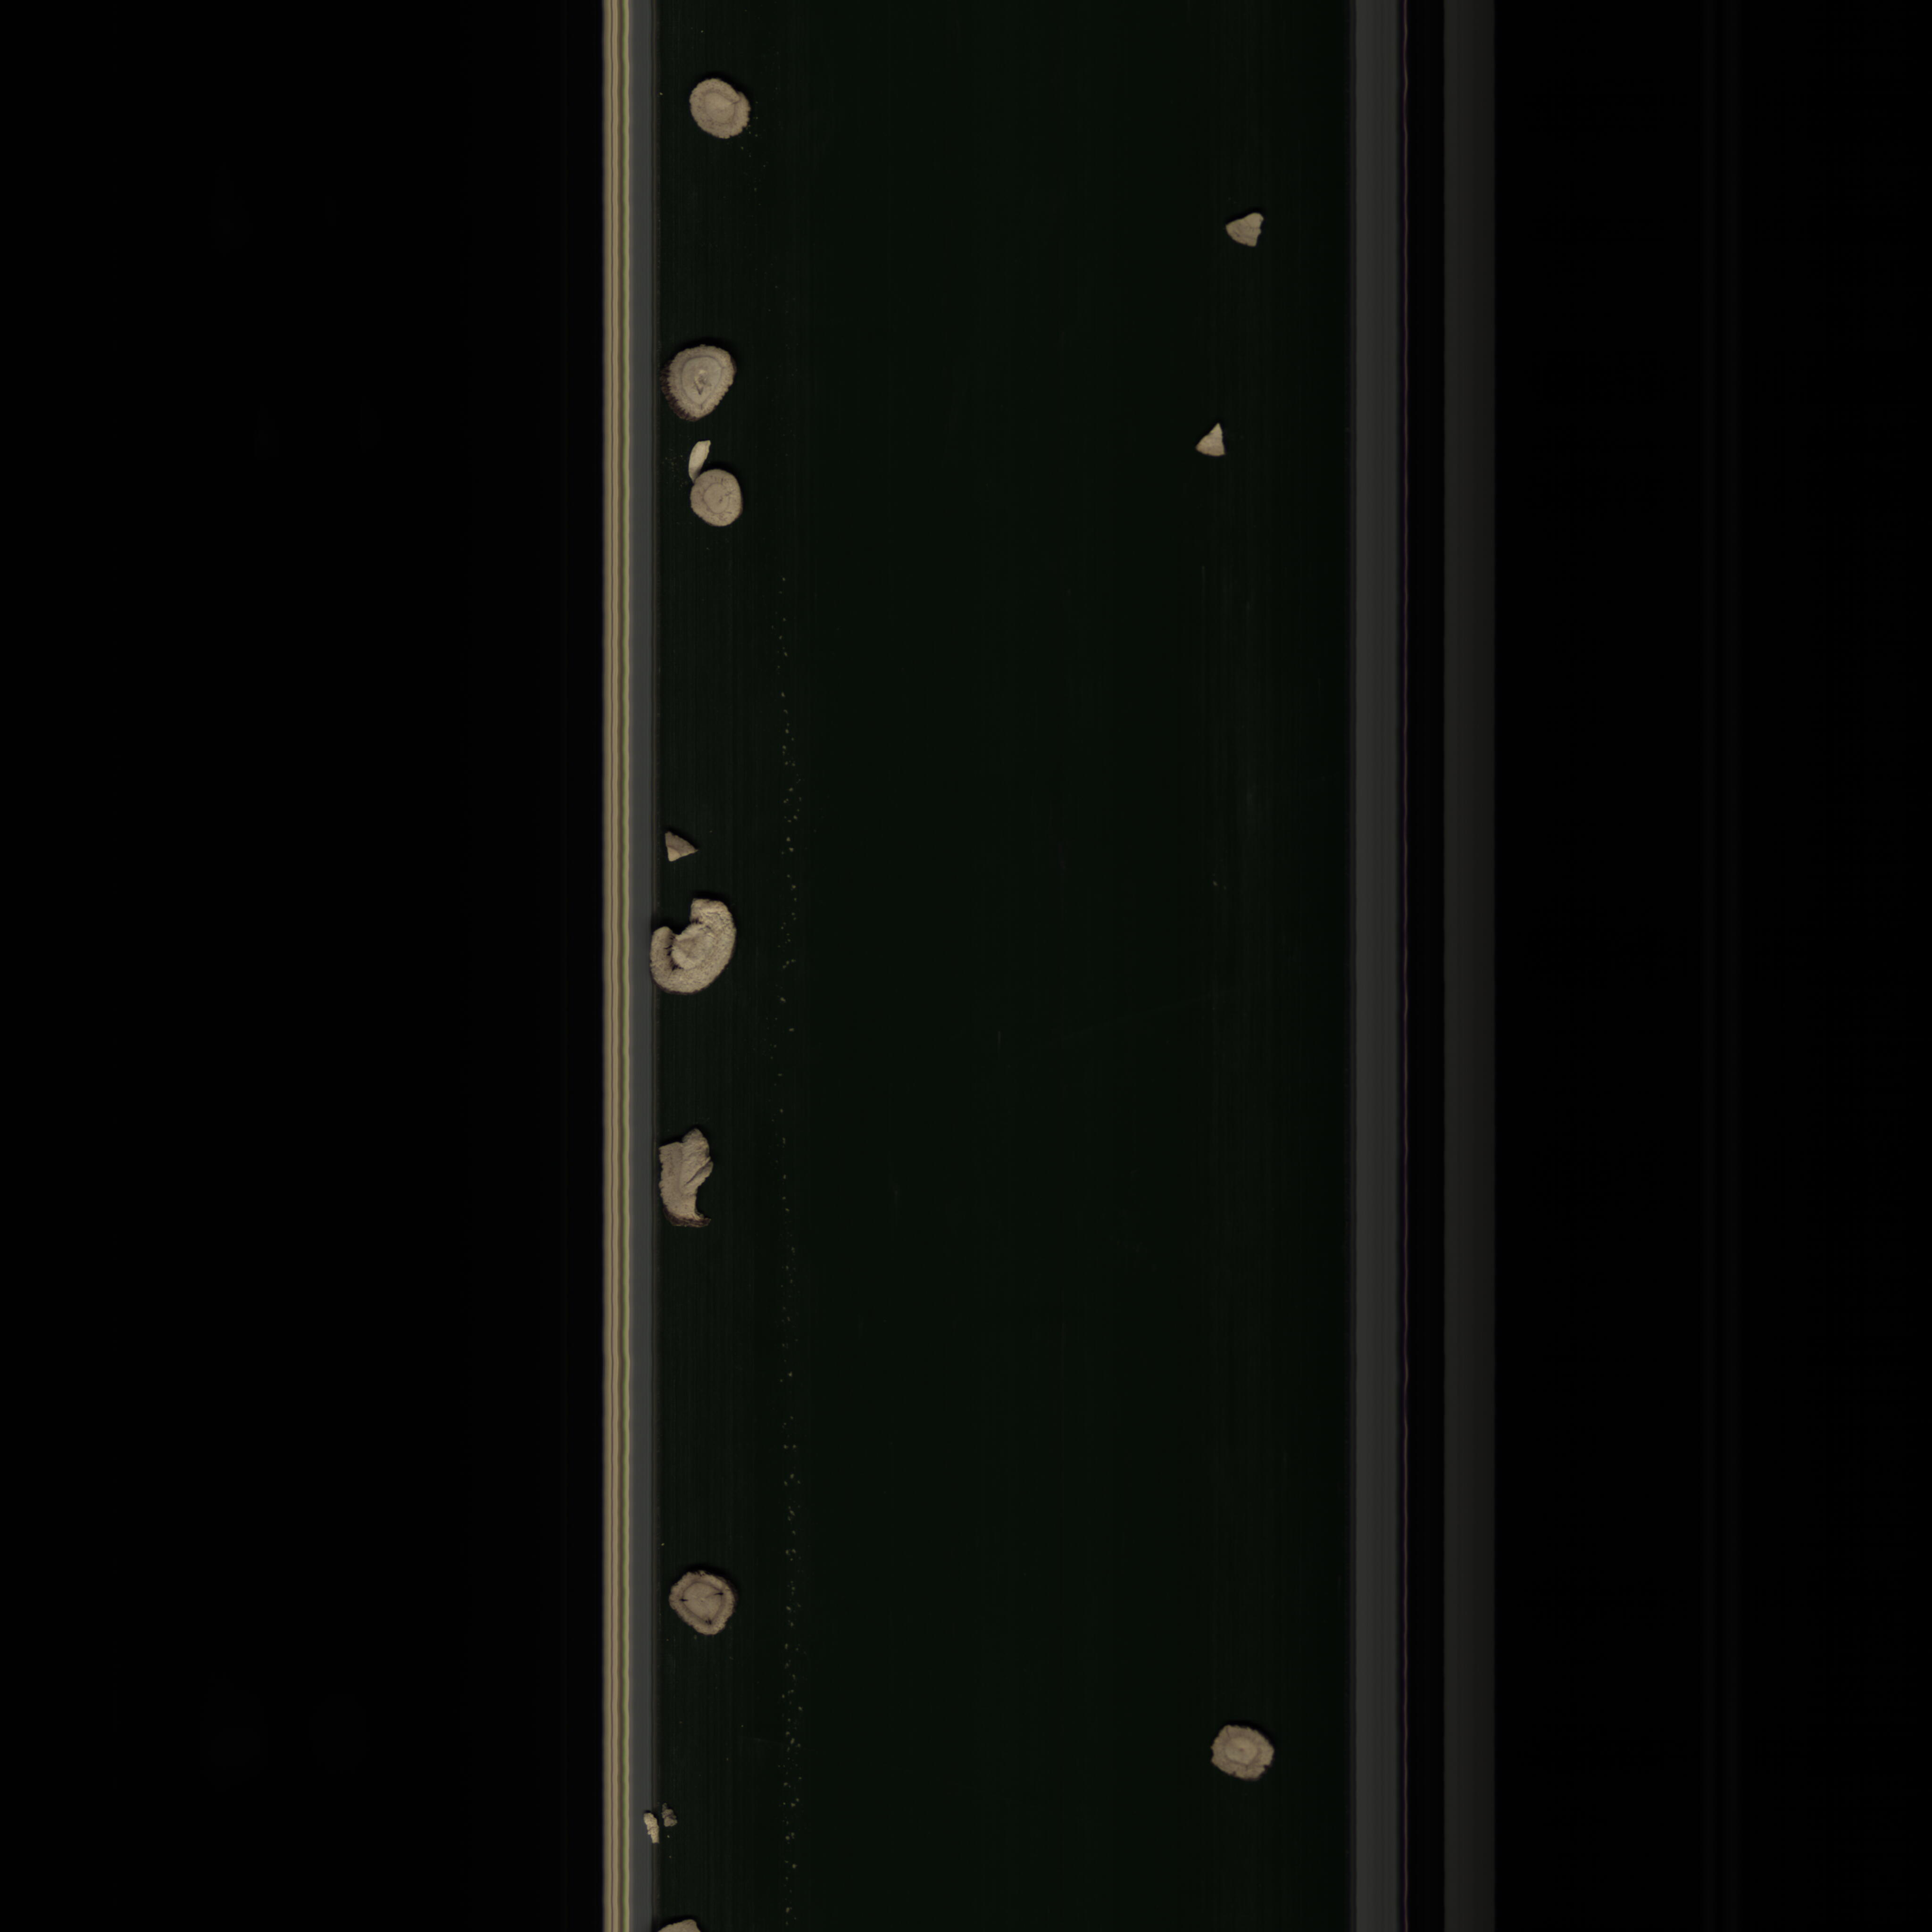debris: (655, 1123, 720, 1237), (1221, 203, 1276, 249), (1185, 419, 1235, 469), (672, 433, 711, 478), (660, 830, 702, 860)
moldy: (646, 885, 743, 1017), (663, 1557, 738, 1647)
